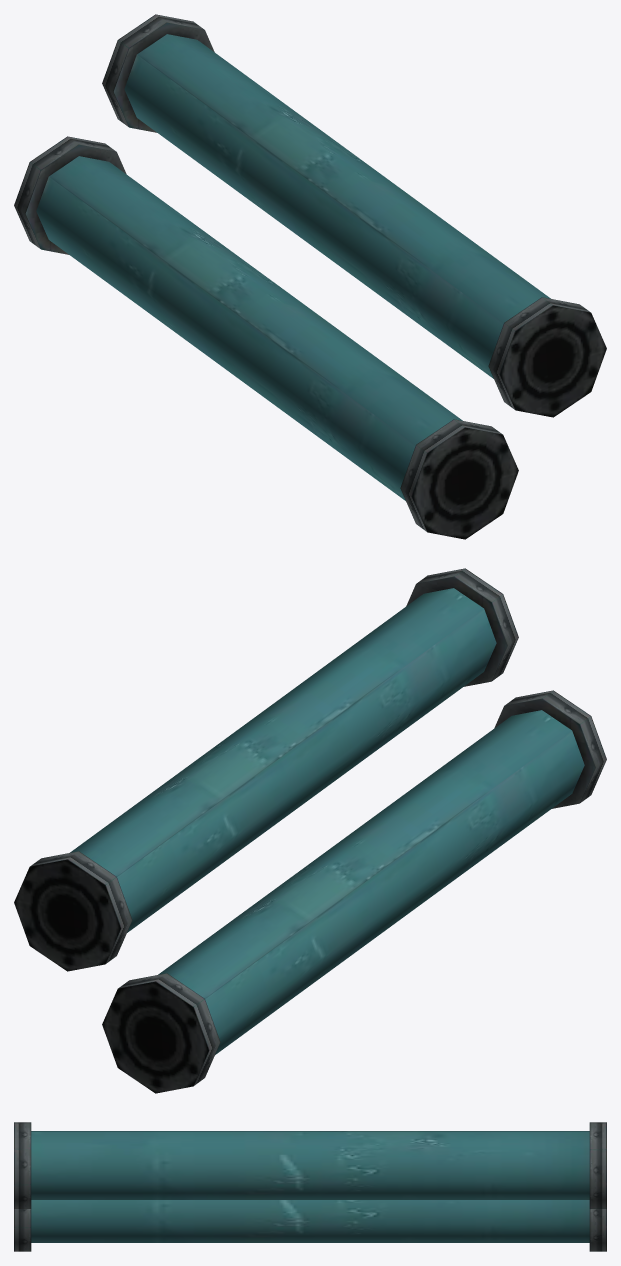
The picture shows the model from 3 angles, top to bottom: view 1: azimuth 30°, elevation 25°; view 2: azimuth 150°, elevation 25°; view 3: azimuth 270°, elevation 25°; orthographic projection. The views are drawn at different scales.
Visible parts, largest first — view 1: body0_model0_lod0_mesh0; view 2: body0_model0_lod0_mesh0; view 3: body0_model0_lod0_mesh0.
Part boxes in pixels (x1,y1,x2,y2): body0_model0_lod0_mesh0: (14, 14, 606, 539); body0_model0_lod0_mesh0: (14, 568, 606, 1093); body0_model0_lod0_mesh0: (14, 1122, 606, 1251).
Bounding box in the file's own units: 18.14 × 18.88 × 64.08.
1 material, 1 textured.
